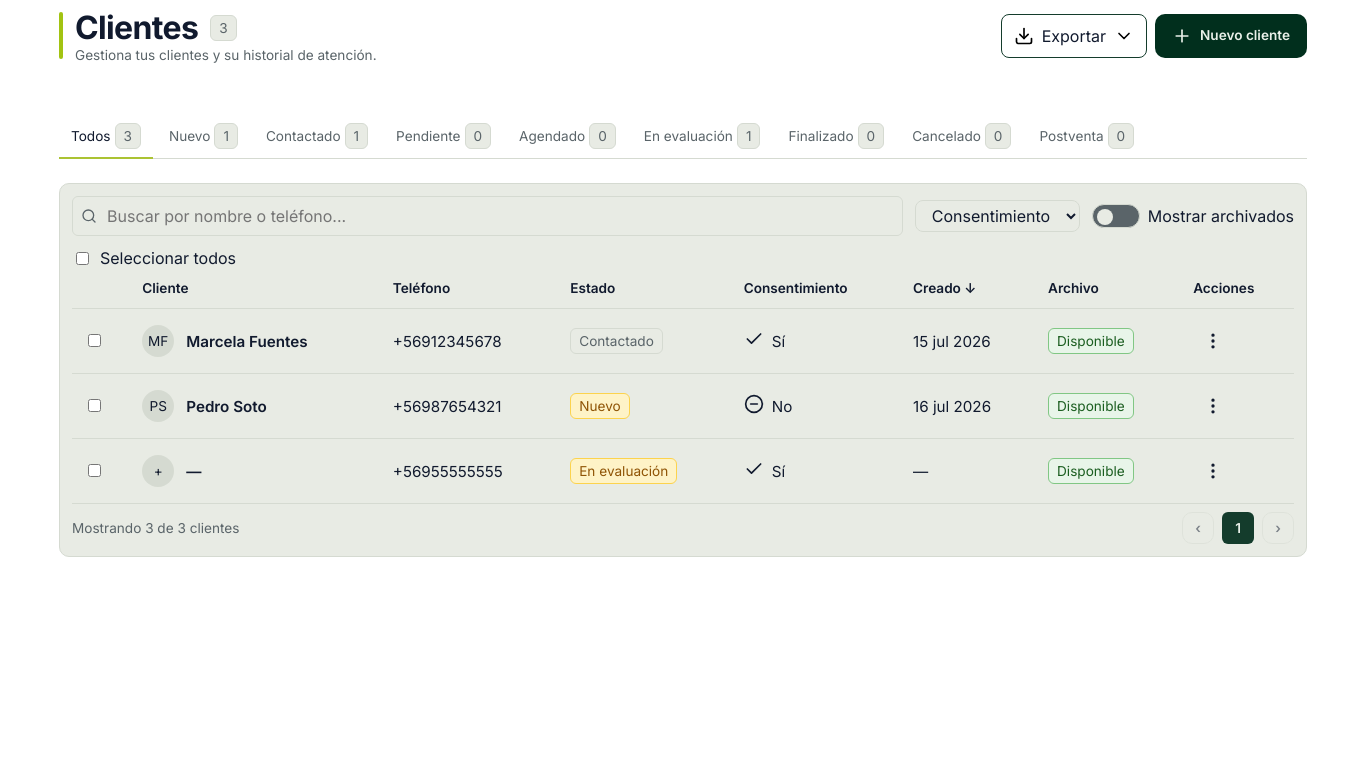
Test: ClientesList › distinguishes a filtered-empty result and offers the search recovery
This screenshot has width=1366, height=768.
Expected: the link "Marcela Fuentes" is shown, [186, 332, 308, 350]
Type "zzz" into the search field named "Buscar clientes" at x=499, y=216, box [105, 205, 894, 227]
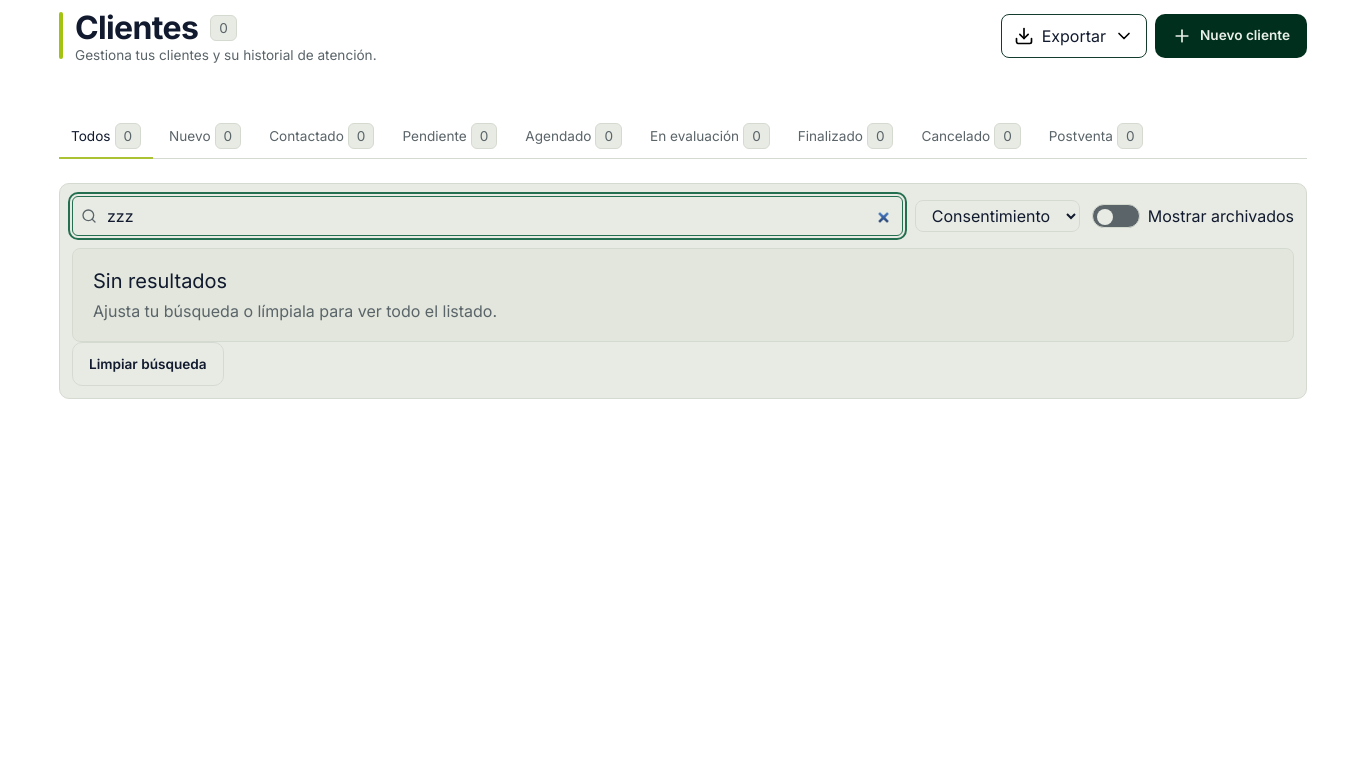
Now the text "Sin resultados" is shown, box [93, 269, 227, 293]
Click the button "Limpiar búsqueda" at x=148, y=364, box [72, 342, 224, 386]
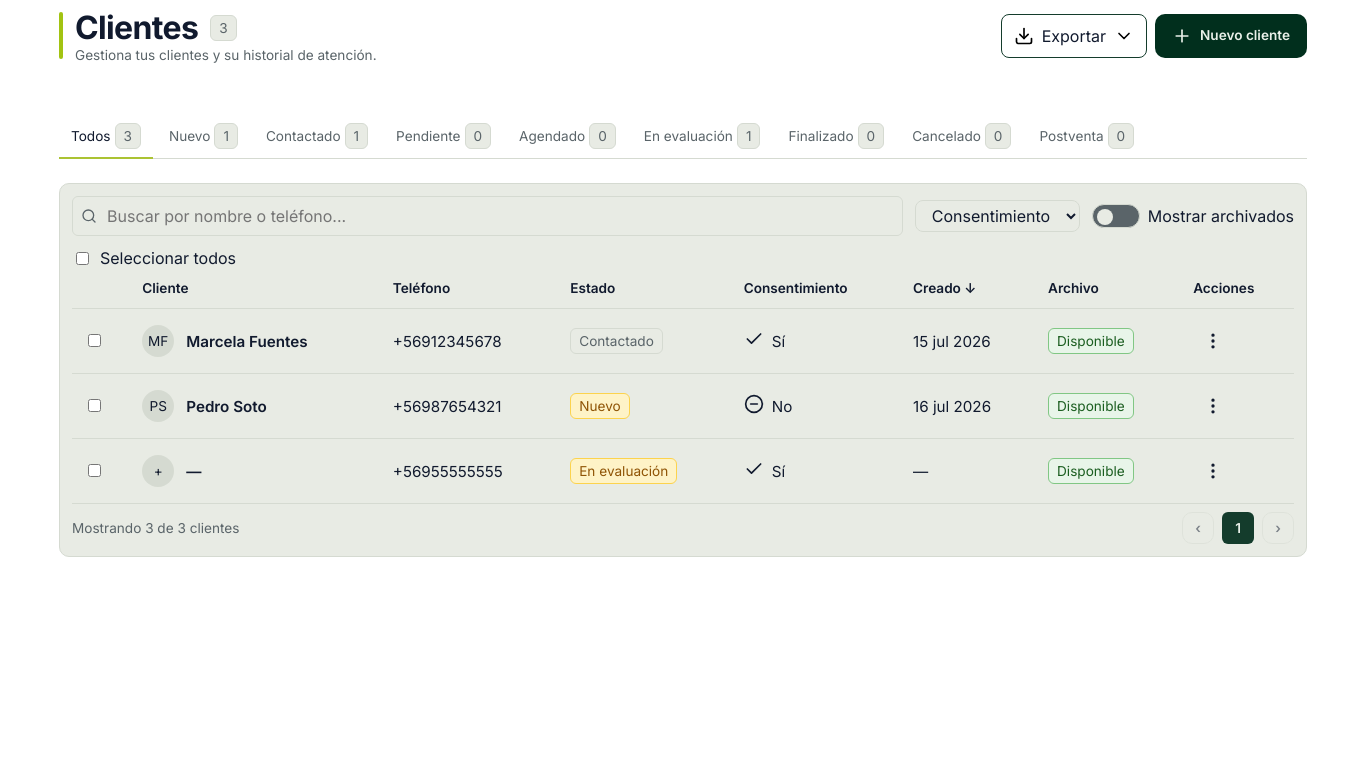
Now the link "Marcela Fuentes" is shown, box [186, 332, 308, 350]
Now the search field named "Buscar clientes" is empty, box [105, 205, 894, 227]
